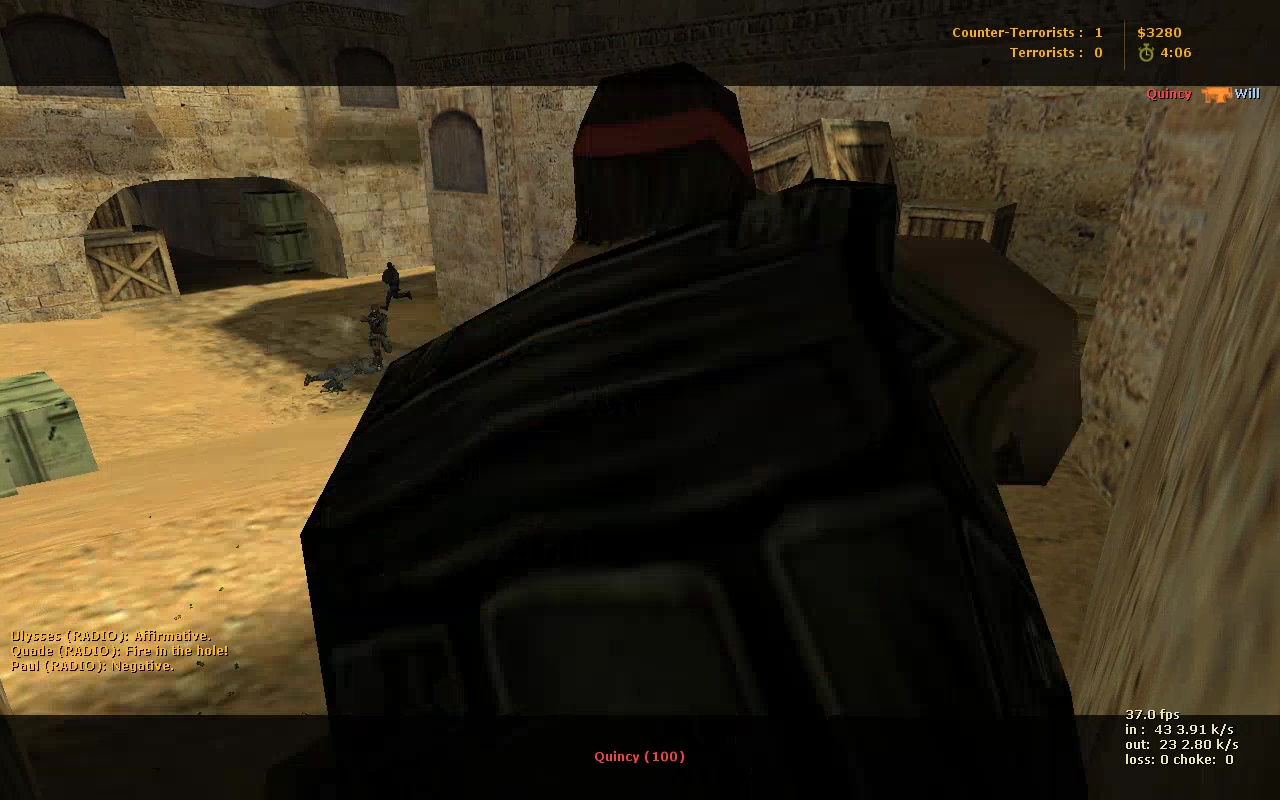ct: (364, 308, 395, 370), (381, 259, 413, 309)
dead: (305, 363, 374, 391)
